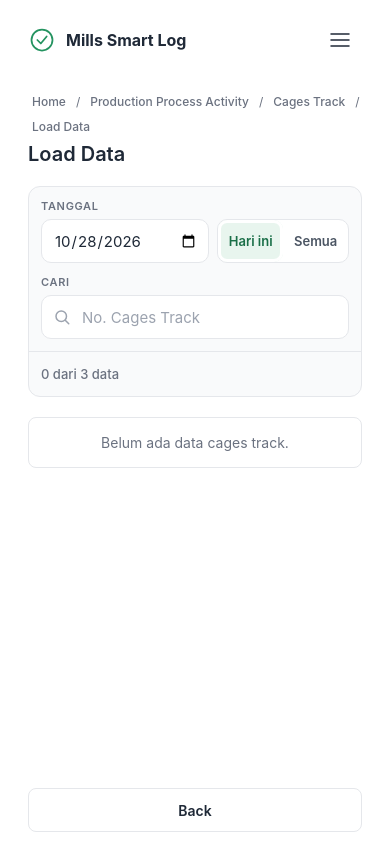
DataPreviewCagesTrackView › filters records by date, comparing against the first 10 characters of the full local datetime `date` column (not an exact-string match)
In the date field with test id "date-filter-input": (125, 241) x1=41 y1=219 x2=209 y2=263, type "2026-08-10"
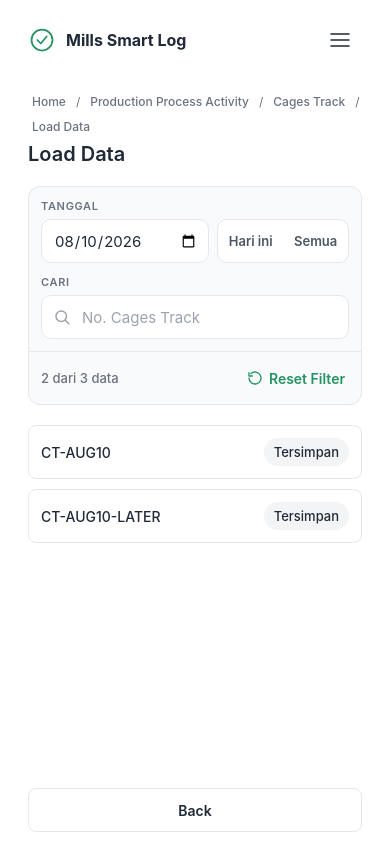
Expected: the button with test id "record-item-rec-aug10" is shown, x1=28 y1=425 x2=362 y2=479
Expected: the button with test id "record-item-rec-aug10-later" is shown, x1=28 y1=489 x2=362 y2=543
